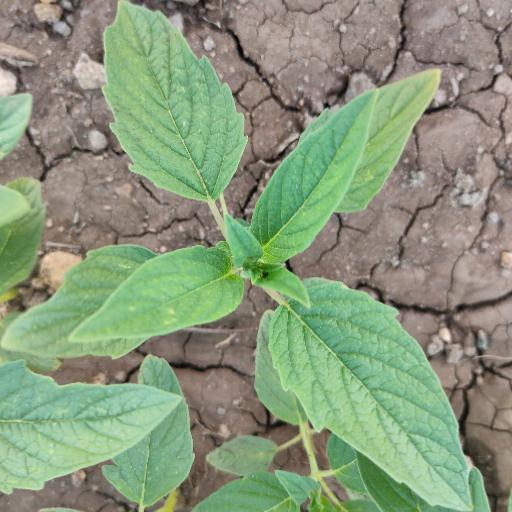crop: (30, 23, 485, 512)
